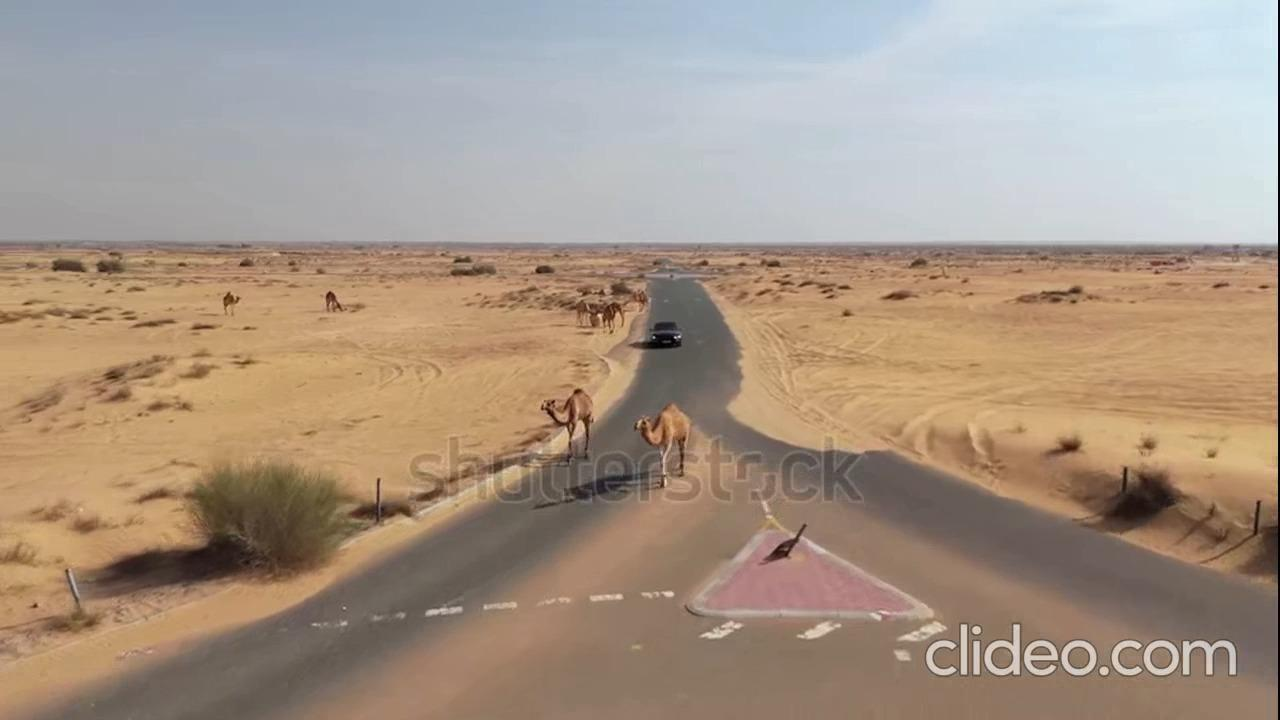camel: (631, 398, 705, 492), (534, 381, 597, 473)
